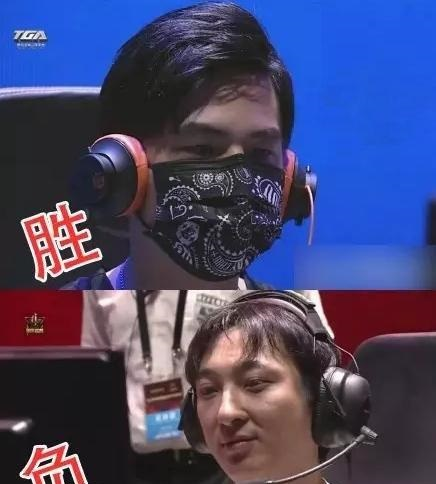face: (193, 327, 306, 481)
face_mask: (152, 83, 283, 257)
